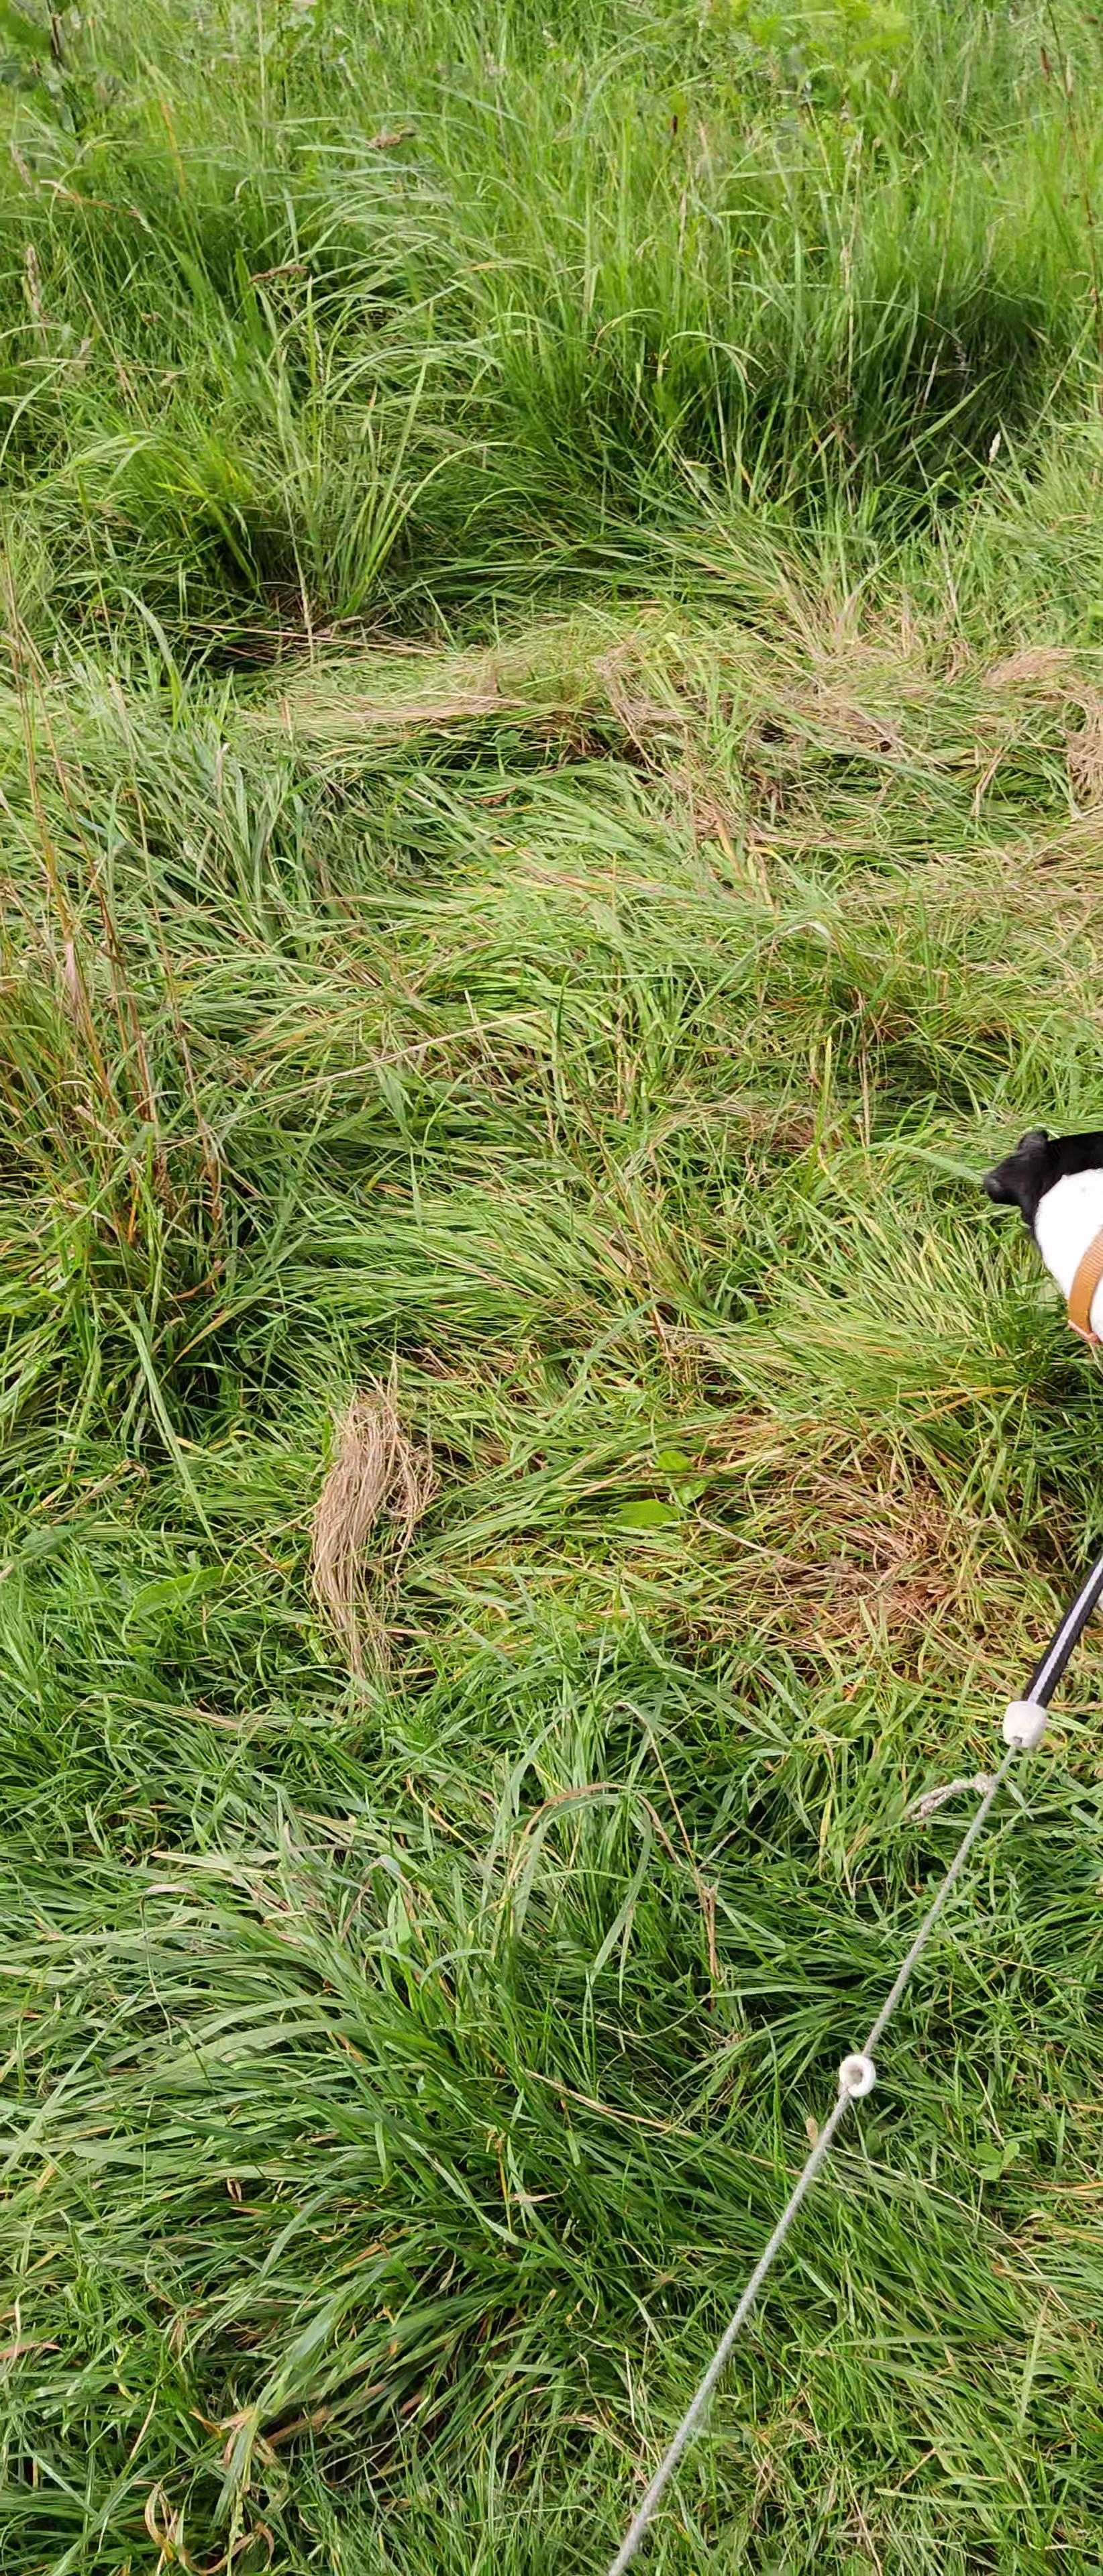Dog: (971, 1106, 1103, 1362)
